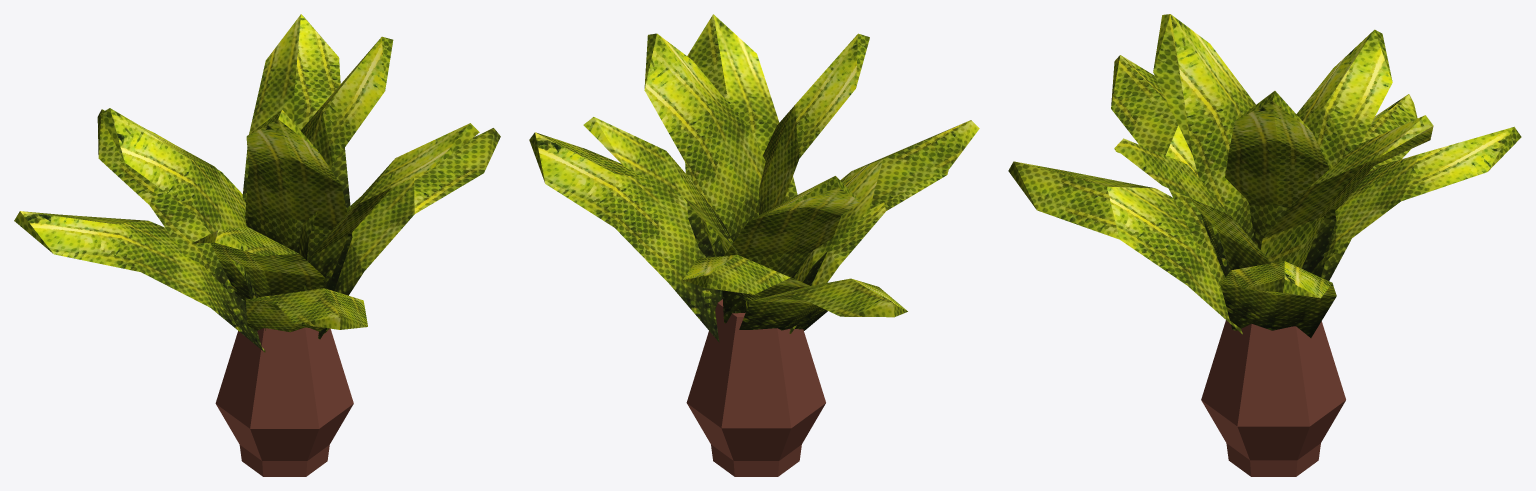
File: SM_DesertTree_C.fbx
3 renders of one model, left to right at view 1: azimuth 30°, elevation 25°; view 2: azimuth 150°, elevation 25°; view 3: azimuth 270°, elevation 25°, orthographic. The views are drawn at different scales.
Parts seen in each view (by area): view 1: SM_DesertTree_C; view 2: SM_DesertTree_C; view 3: SM_DesertTree_C.
Boxes of the visible parts, x1=… form: SM_DesertTree_C: x1=14, y1=14, x2=500, y2=476; SM_DesertTree_C: x1=529, y1=14, x2=979, y2=476; SM_DesertTree_C: x1=1008, y1=14, x2=1521, y2=476.
Bounding box in the file's own units: 244 × 219 × 243.
